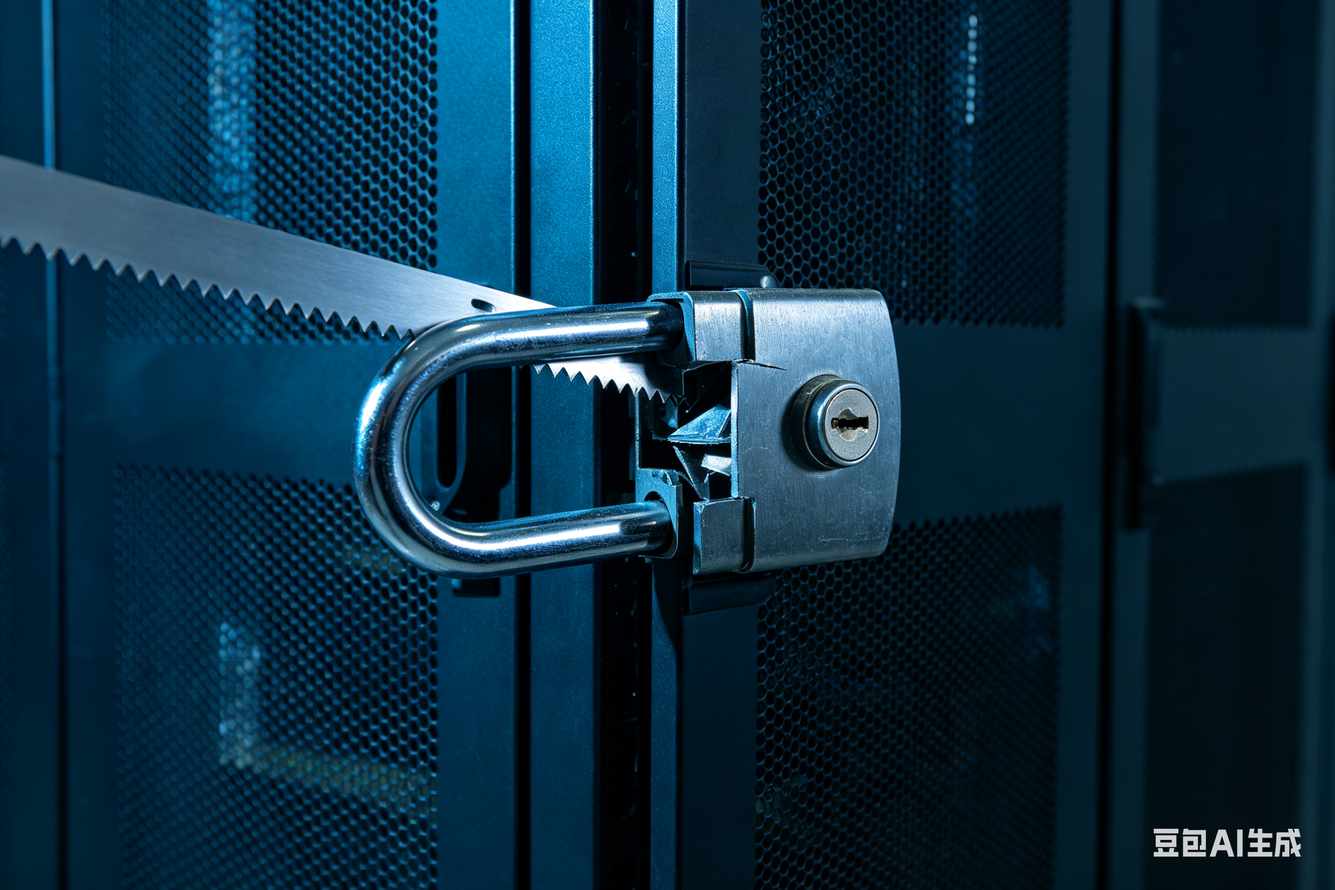BadLock: (644, 294, 750, 556)
